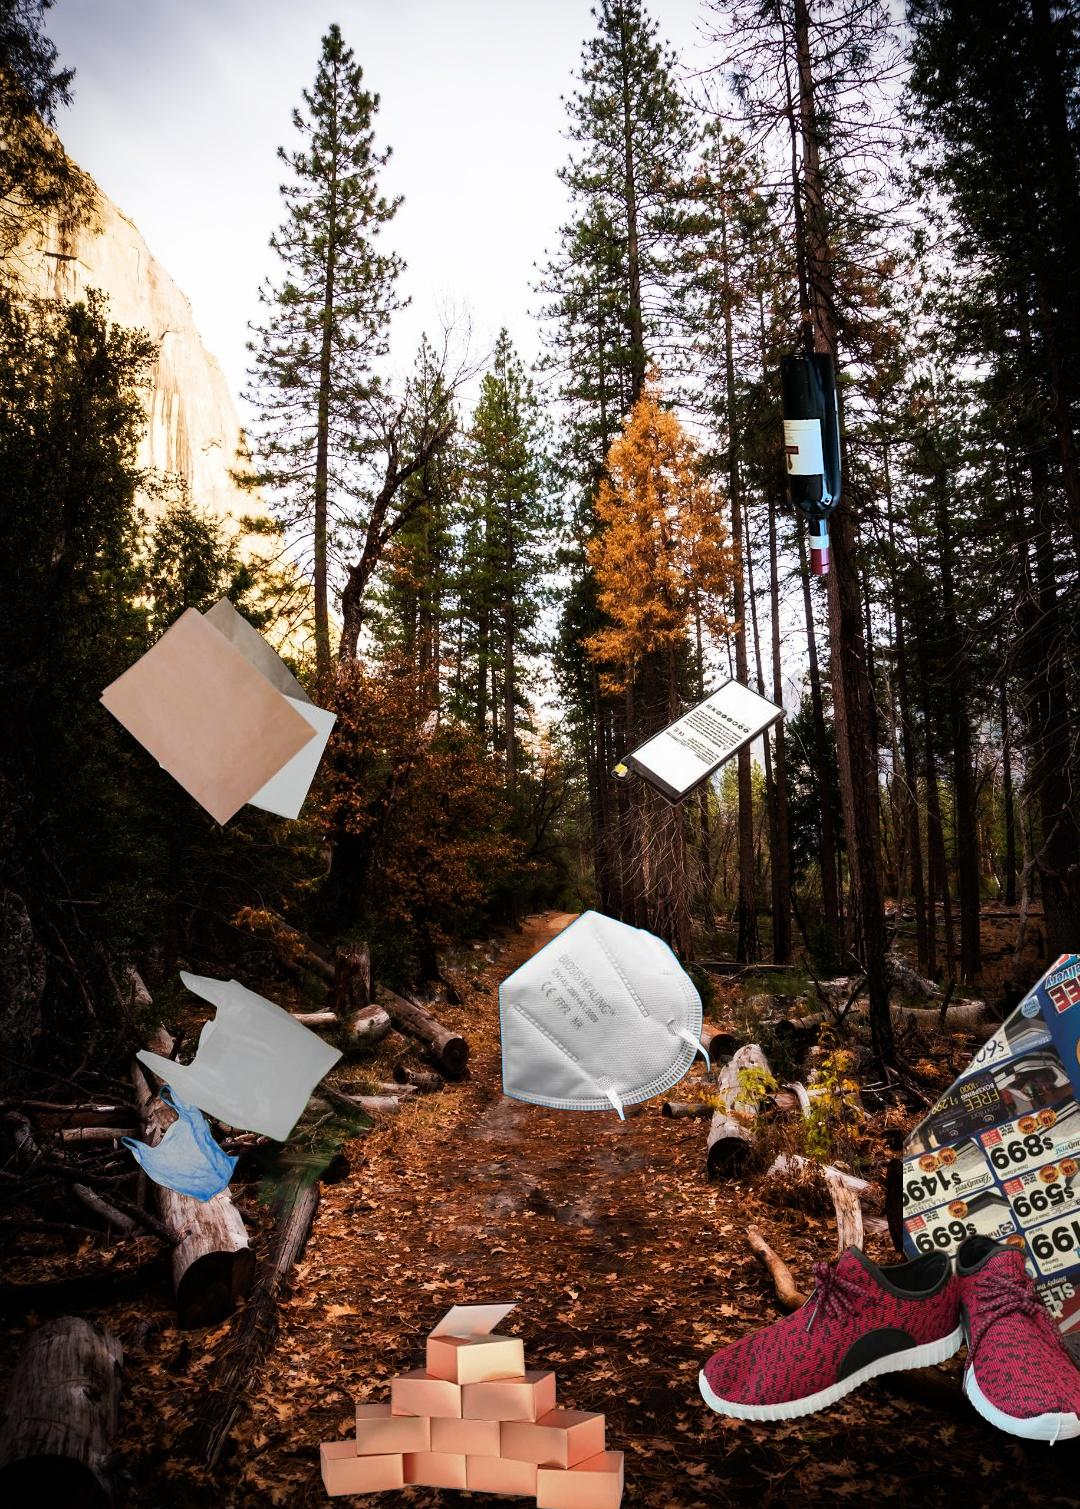battery: (608, 674, 790, 810)
glass: (775, 346, 847, 582)
paper: (904, 954, 1080, 1338)
paper-bag: (97, 593, 341, 828)
plastic-bag: (118, 967, 393, 1248)
shoes: (695, 1231, 1080, 1451)
trash: (496, 907, 713, 1120)
trashbox-cardboard: (318, 1300, 626, 1509)
